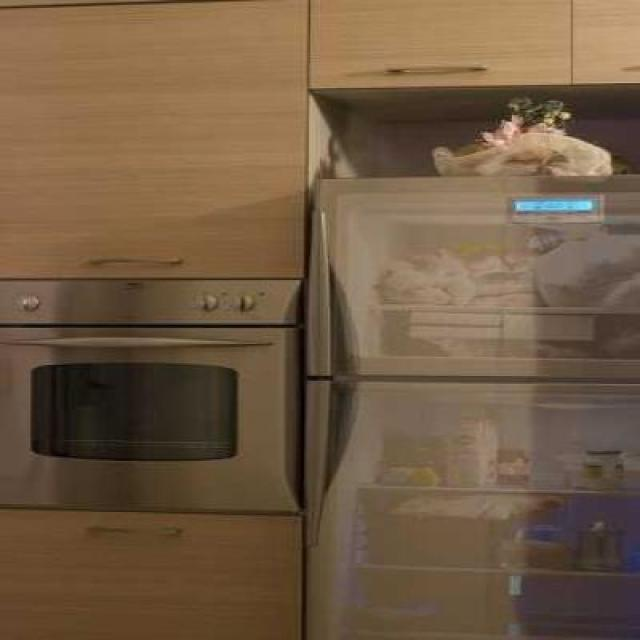refrigerator: (307, 176, 640, 638)
